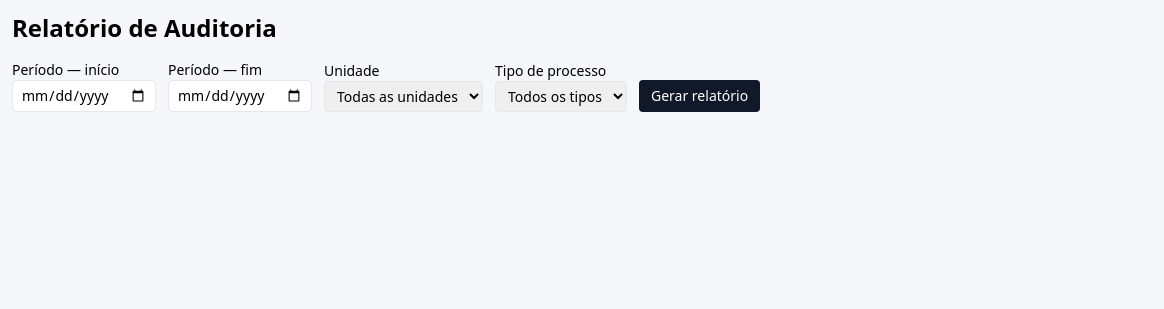
RelatorioAuditoriaPage › exibe o tempo médio como travessão quando ausente
Click the button "Gerar relatório" at (700, 96), box x1=639 y1=80 x2=760 y2=112
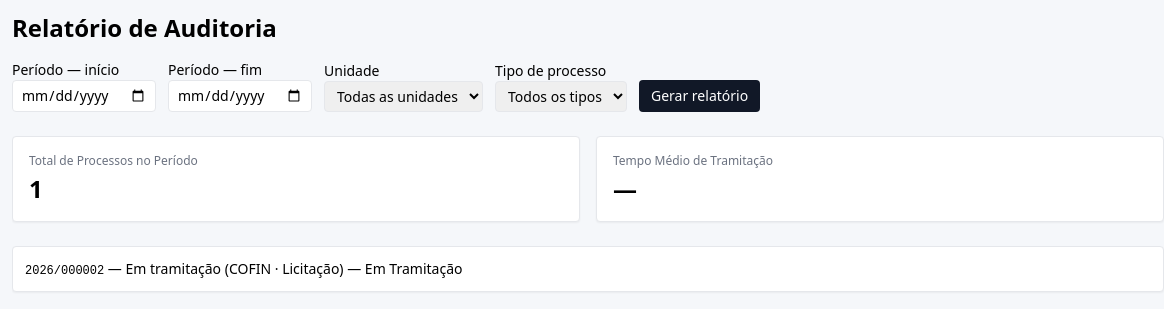
Now the element with test id "relatorio-tempo-medio" shows "—", box x1=613 y1=172 x2=637 y2=205
